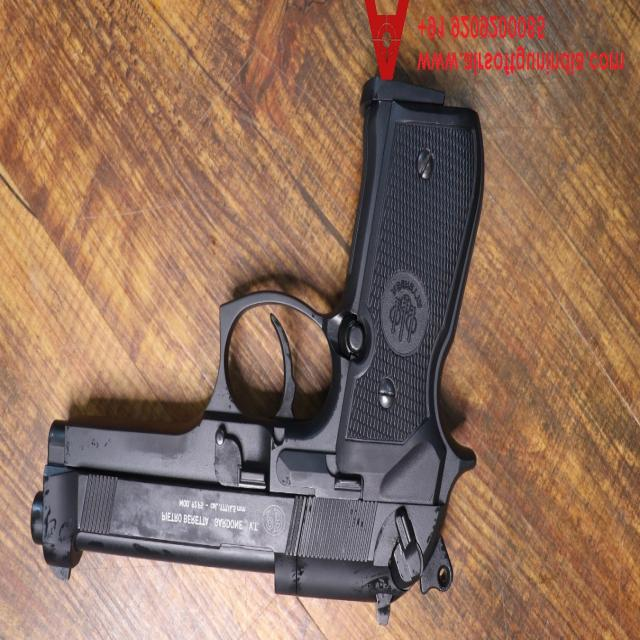Gun: (26, 74, 502, 626)
